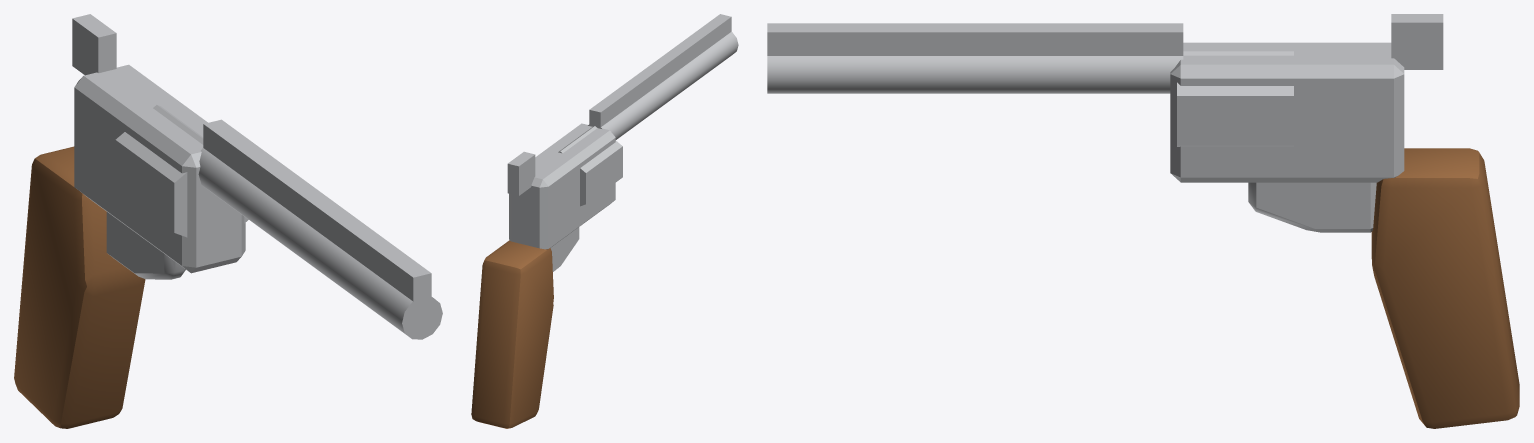
The model's file is revolver.glb.
3 renders of one model, left to right at view 1: azimuth 30°, elevation 25°; view 2: azimuth 150°, elevation 25°; view 3: azimuth 270°, elevation 25°, orthographic. The views are drawn at different scales.
Visible parts, largest first — view 1: revolver_mesh; view 2: revolver_mesh; view 3: revolver_mesh.
Boxes of the visible parts, x1,y1,x2,y2 form: revolver_mesh: (14,14,442,428); revolver_mesh: (471,14,738,428); revolver_mesh: (767,14,1519,428).
Size of the model in its own units: 0.0364 by 0.1694 by 0.2893.
